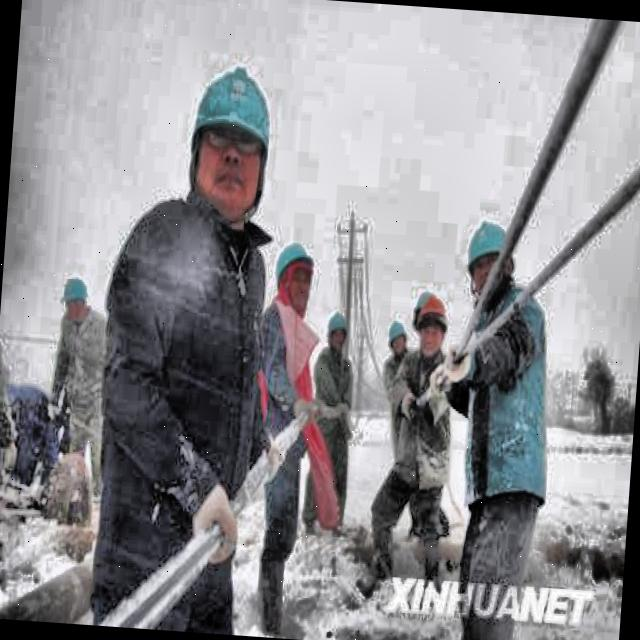helmet: (176, 53, 282, 231), (460, 218, 510, 298), (268, 236, 317, 316), (409, 286, 452, 358), (58, 274, 90, 328), (324, 308, 352, 356), (383, 322, 410, 358)
